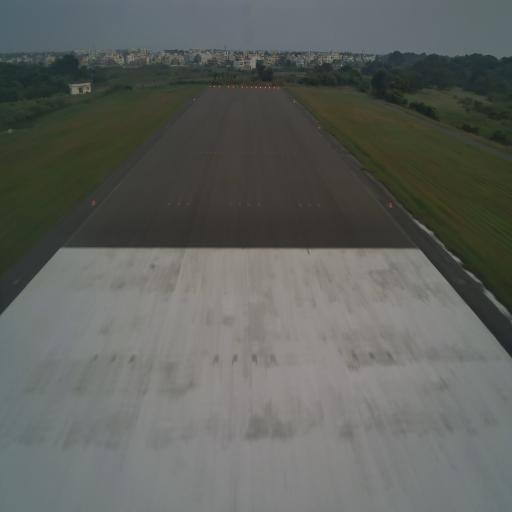off: (166, 200, 172, 208), (237, 201, 242, 209), (308, 202, 313, 210), (317, 202, 322, 208), (186, 201, 190, 207), (257, 200, 260, 208), (299, 202, 303, 208), (177, 201, 180, 208), (229, 201, 232, 207), (248, 202, 251, 208)
on: (388, 201, 394, 209), (92, 198, 95, 206)
